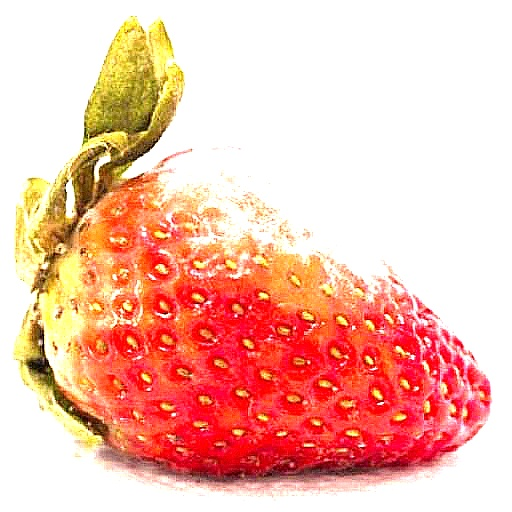Powdery Mildew Fruit: (130, 142, 425, 328)
